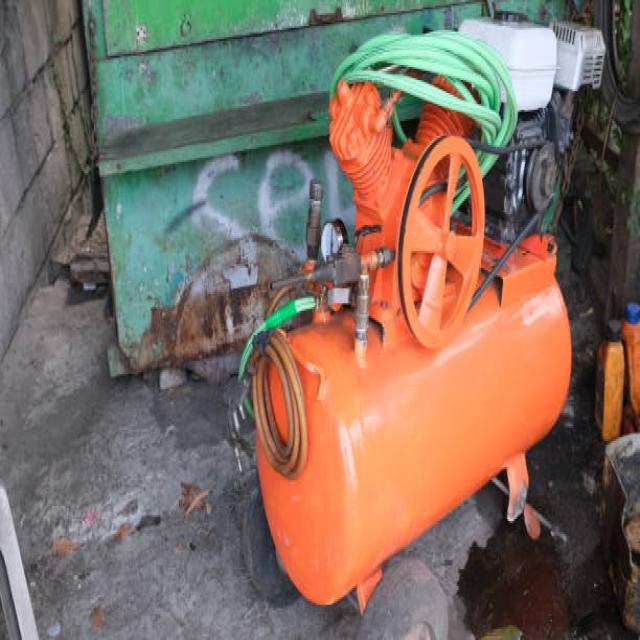compressor: (203, 22, 581, 590)
